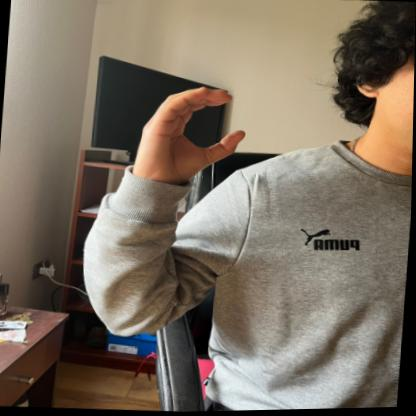C: (130, 76, 254, 195)
